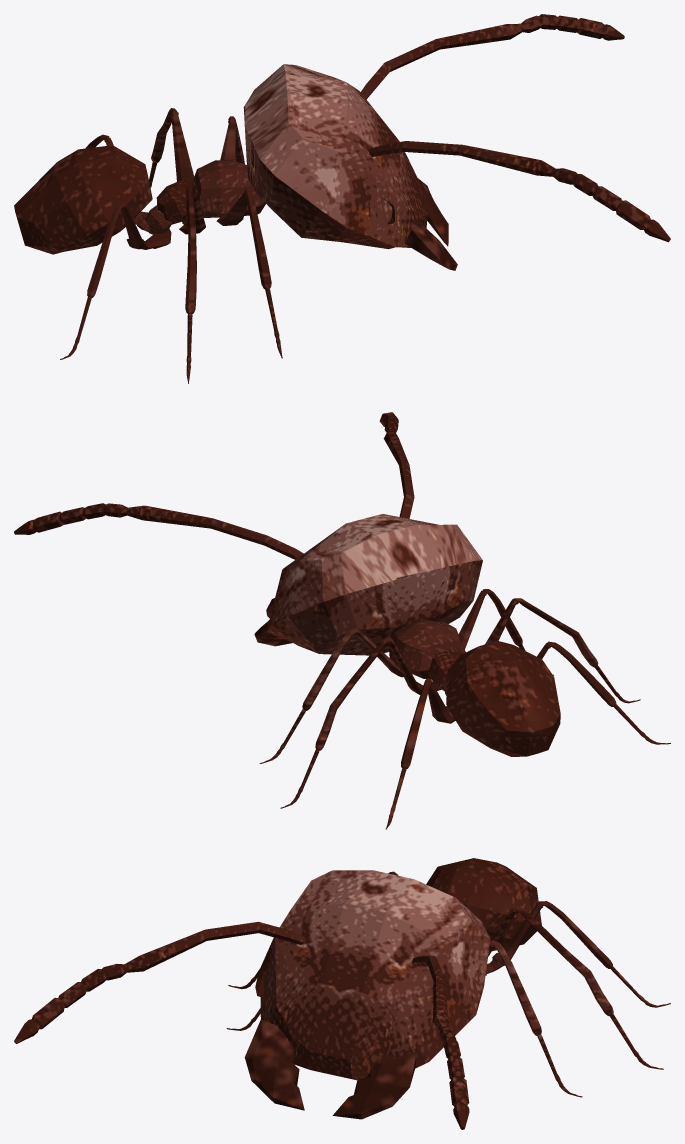
The model's file is enemySoldierAnt.fbx.
3 renders of one model, top to bottom at view 1: azimuth 30°, elevation 25°; view 2: azimuth 150°, elevation 25°; view 3: azimuth 270°, elevation 25°, orthographic. The views are drawn at different scales.
Visible parts, largest first — view 1: Head, Abdomen 6, Antenna, Legs 2, Abdomen 1, Legs 1, Legs 3, Mandibles, Abdomen 2; view 2: Head, Abdomen 6, Antenna, Legs 2, Legs 3, Abdomen 1, Legs 1, Abdomen 2; view 3: Head, Antenna, Mandibles, Abdomen 6, Legs 2, Legs 3, Legs 1.
Part boxes in pixels (<box>): Head: <box>243,64,427,249</box>; Abdomen 6: <box>14,145,152,254</box>; Antenna: <box>360,14,670,242</box>; Legs 2: <box>149,108,205,383</box>; Abdomen 1: <box>193,160,265,217</box>; Legs 1: <box>216,116,282,358</box>; Legs 3: <box>60,134,171,359</box>; Mandibles: <box>405,178,457,270</box>; Abdomen 2: <box>156,179,197,224</box>; Head: <box>266,514,482,655</box>; Abdomen 6: <box>446,640,560,756</box>; Antenna: <box>14,412,414,559</box>; Legs 2: <box>280,598,640,808</box>; Legs 3: <box>385,641,670,829</box>; Abdomen 1: <box>389,620,465,678</box>; Legs 1: <box>259,589,553,763</box>; Abdomen 2: <box>427,648,463,691</box>; Head: <box>260,870,490,1080</box>; Antenna: <box>14,921,469,1129</box>; Mandibles: <box>244,1019,416,1119</box>; Abdomen 6: <box>426,858,541,951</box>; Legs 2: <box>228,906,663,1069</box>; Legs 3: <box>388,871,670,1007</box>; Legs 1: <box>226,940,582,1097</box>.
Size of the model in its own units: 1544 by 1367 by 461.
